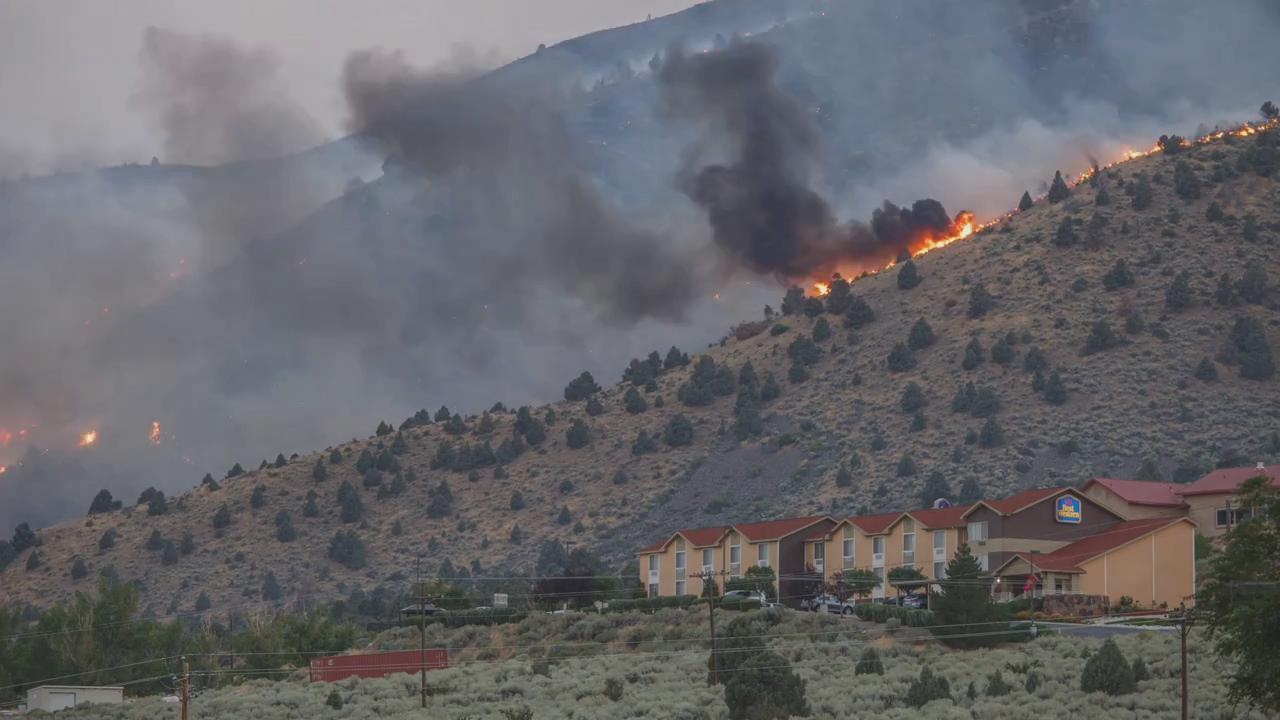fire: (919, 227, 976, 248), (1124, 146, 1185, 152), (819, 285, 832, 294)
smoke: (412, 125, 588, 315), (677, 52, 826, 250)
